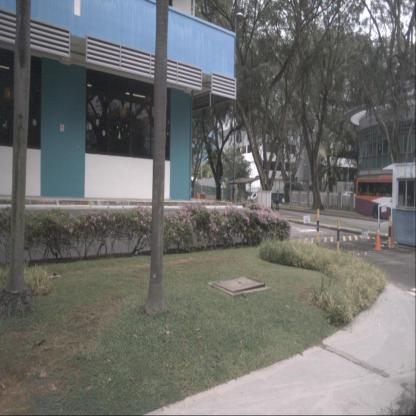cone: (373, 225, 384, 252), (387, 225, 396, 249)
